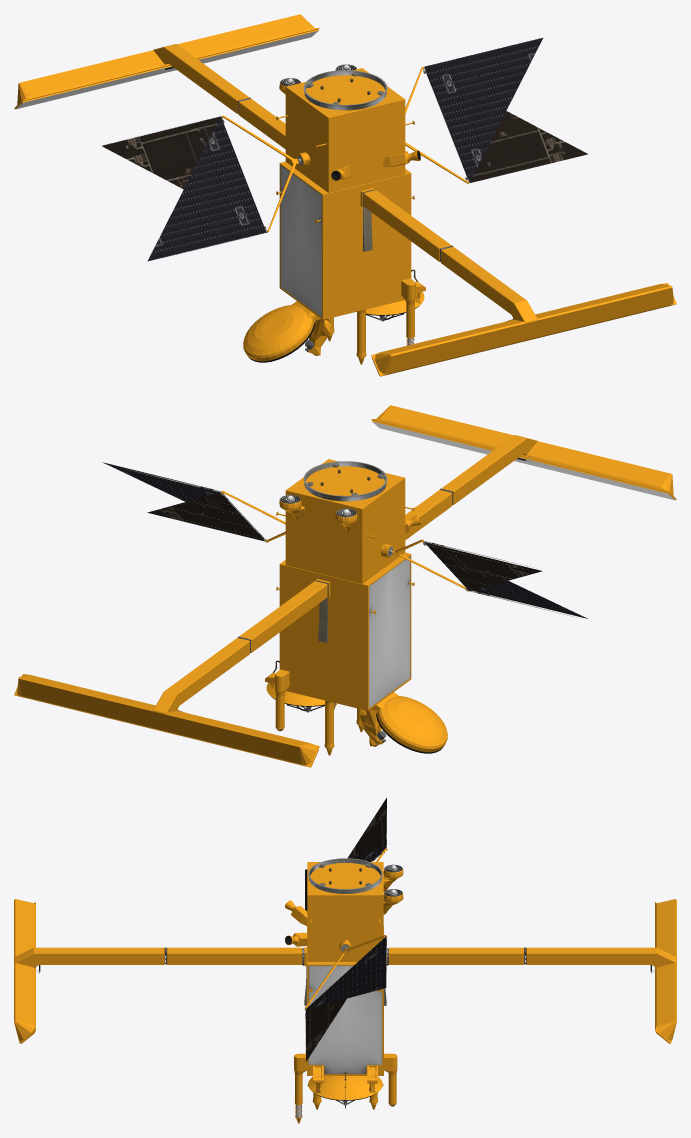
The model's file is swot-bus.obj.
3 views of the same model, one above another, from view 1: azimuth 30°, elevation 25°; view 2: azimuth 150°, elevation 25°; view 3: azimuth 270°, elevation 25° (orthographic). The views are drawn at different scales.
Bounding box in the file's own units: 6.45 × 3.69 × 9.43.
Materials: 4 (3 with a texture image).
